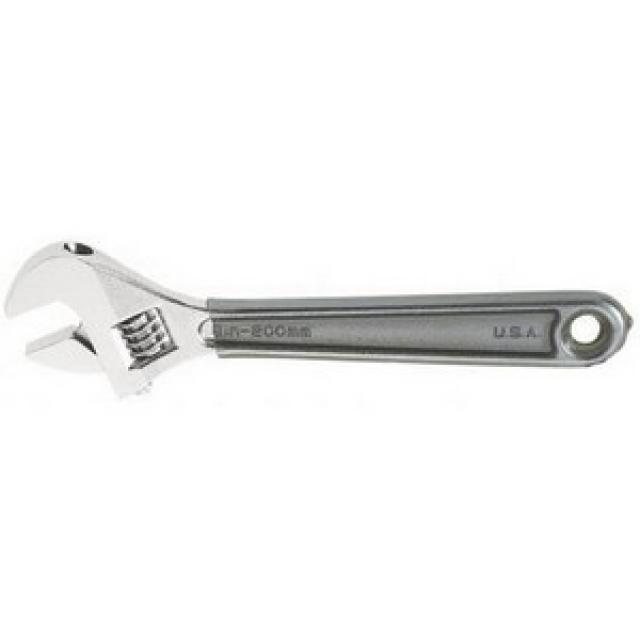wrench: (0, 231, 634, 408)
